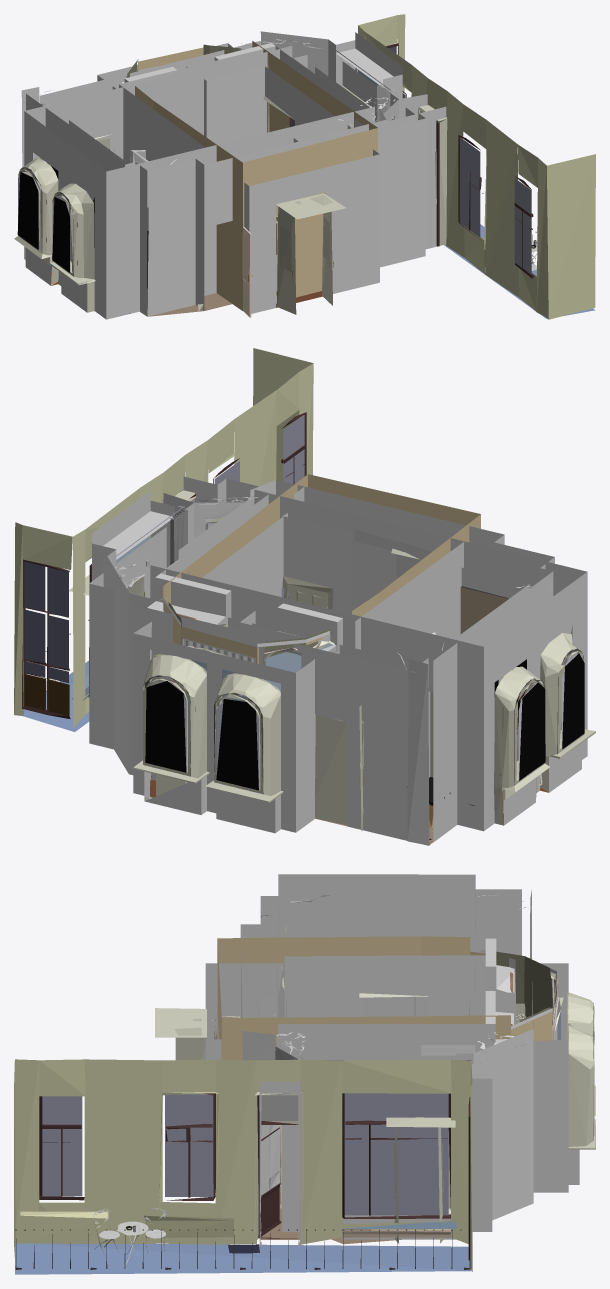
Rendered from overview.glb.
3 renders of one model, top to bottom at view 1: azimuth 30°, elevation 25°; view 2: azimuth 150°, elevation 25°; view 3: azimuth 270°, elevation 25°, orthographic. The views are drawn at different scales.
Parts seen in each view (by area): view 1: observed-plaster-wall-0, web-batch-0 (×2), web-batch-2237, web-batch-73, web-batch-4, web-batch-15 (×2), web-batch-19, web-batch-9, web-batch-16 (×2), web-batch-18, web-batch-3, web-batch-1417 (+2 smaller); view 2: observed-plaster-wall-0, web-batch-0 (×2), web-batch-2237, web-batch-4, web-batch-18, web-batch-19, web-batch-15 (×2), web-batch-73, web-batch-22, web-batch-9, web-batch-16 (×2), web-instance-297_0 (+12 smaller); view 3: web-batch-2237, web-batch-15 (×2), observed-plaster-wall-0, web-batch-2234, web-batch-0 (×2), web-batch-19, web-batch-4, web-batch-73, web-batch-18, web-batch-1417, web-batch-53, web-batch-32 (+7 smaller).
Part boxes in pixels (x1,y1,x2,y2): observed-plaster-wall-0: (21, 31, 537, 316); web-batch-0 (×2): (24, 43, 374, 319); web-batch-2237: (358, 14, 595, 319); web-batch-73: (135, 41, 377, 310); web-batch-4: (97, 43, 379, 313); web-batch-15 (×2): (276, 93, 531, 314); web-batch-19: (176, 66, 351, 144); web-batch-9: (14, 158, 95, 312); web-batch-16 (×2): (17, 172, 333, 272); web-batch-18: (69, 55, 415, 230); web-batch-3: (97, 105, 533, 315); web-batch-1417: (385, 43, 533, 278); observed-plaster-wall-0: (92, 476, 554, 845); web-batch-0 (×2): (147, 489, 587, 831); web-batch-2237: (14, 348, 313, 727); web-batch-4: (133, 621, 332, 833); web-batch-18: (89, 517, 529, 785); web-batch-19: (202, 513, 432, 644); web-batch-15 (×2): (133, 415, 304, 802); web-batch-73: (163, 474, 480, 782); web-batch-22: (145, 681, 258, 790); web-batch-9: (494, 633, 595, 825); web-batch-16 (×2): (143, 653, 584, 793); web-instance-297_0: (24, 562, 68, 683); web-batch-2237: (14, 1059, 472, 1271); web-batch-15 (×2): (42, 992, 595, 1215); observed-plaster-wall-0: (93, 889, 533, 1263); web-batch-2234: (15, 1243, 471, 1274); web-batch-0 (×2): (276, 874, 514, 1059); web-batch-19: (258, 955, 515, 1024); web-batch-4: (205, 963, 579, 1192); web-batch-73: (217, 936, 556, 1129); web-batch-18: (282, 924, 492, 1231); web-batch-1417: (39, 1093, 470, 1260); web-batch-53: (496, 951, 552, 1024); web-batch-32: (285, 925, 526, 1243).
Size of the model in its own units: 10.73 by 4.04 by 11.41.
